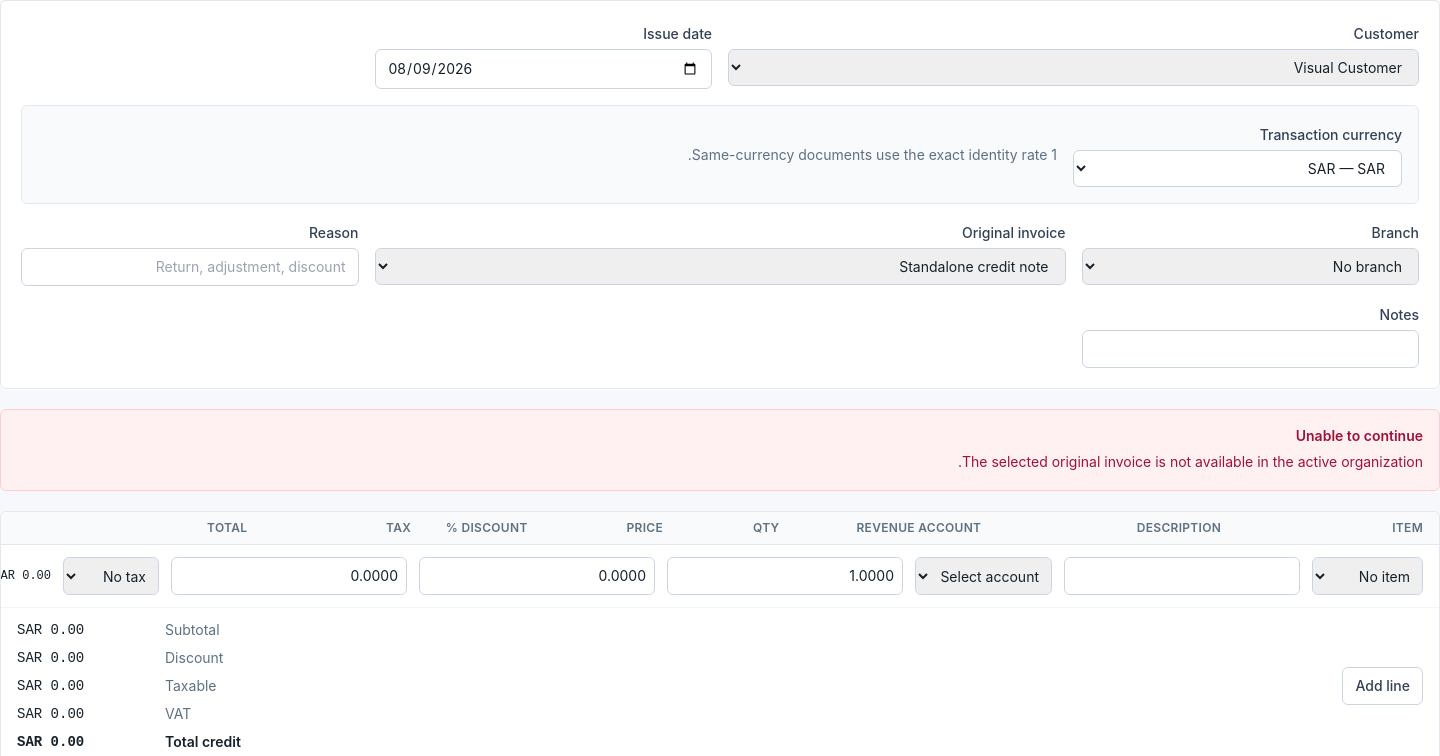
CreditNoteForm › rejects a query-prefilled original invoice when the active organization has no matching invoice
This screenshot has width=1440, height=756.
expect the dropdown labelled "Customer" shows "Visual Customer": met, box [728, 49, 1419, 86]
Type "Credit adjustment" into the 6th field. click: (1182, 576)
box: [1064, 557, 1300, 595]
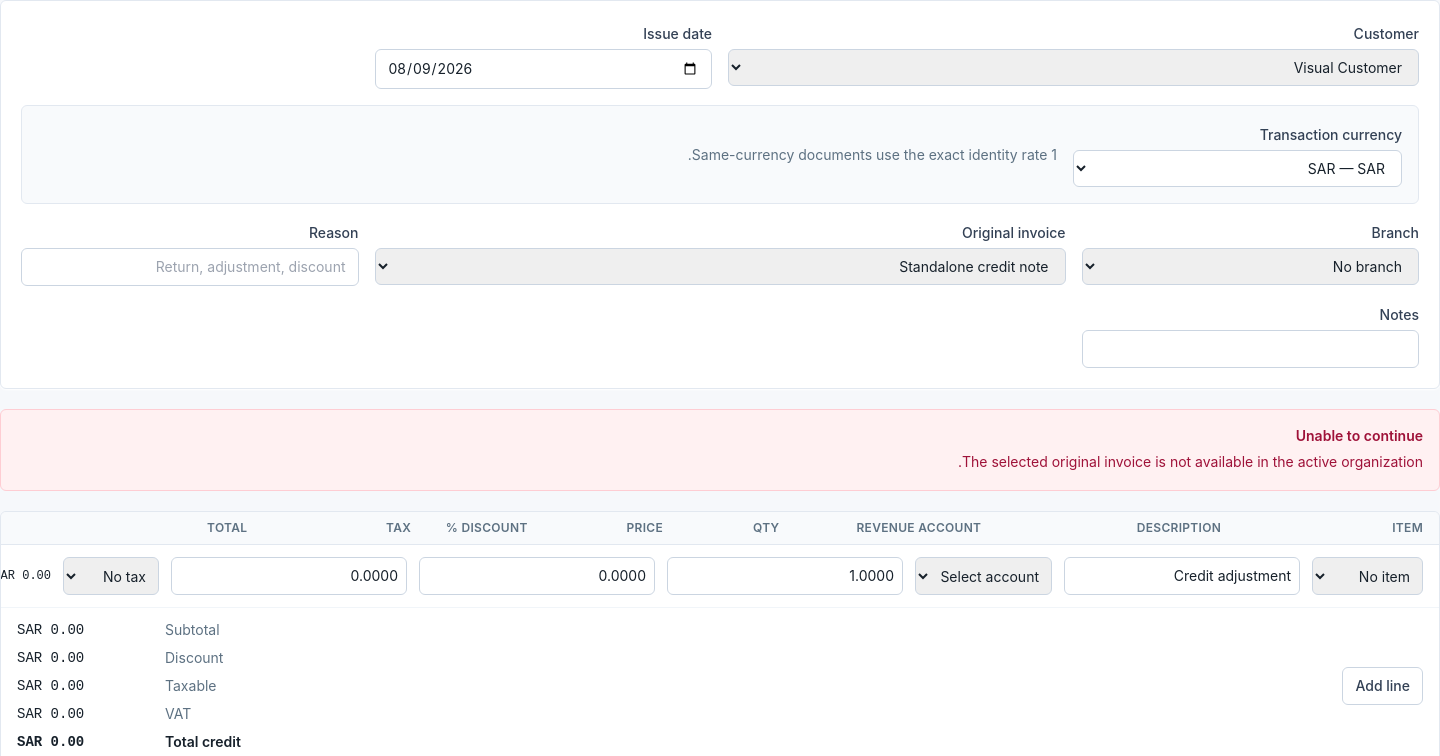
Replace the text in the 4th field with "100.0000". click: (537, 576)
box: [419, 557, 655, 595]
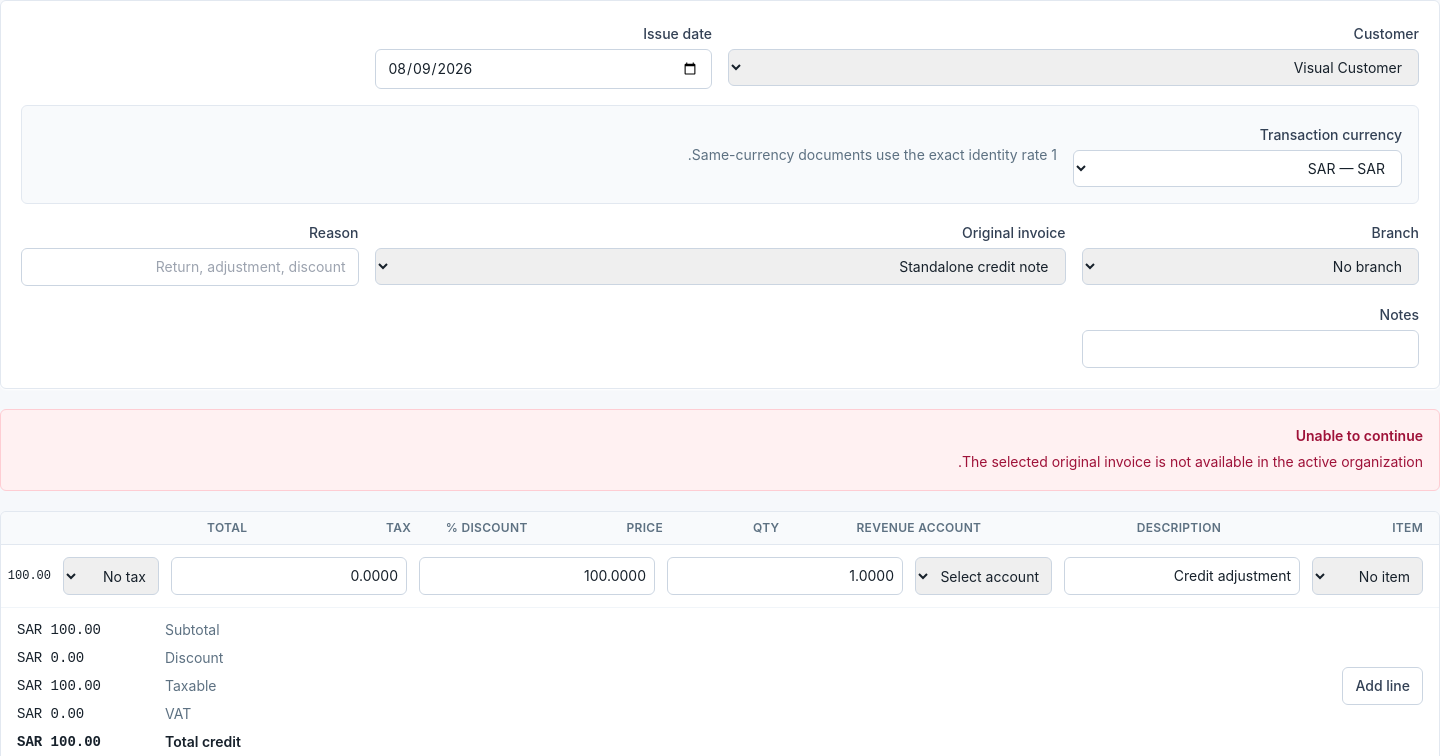
Select "4010 Sales" in the 6th dropdown. click: (984, 576)
box: [915, 557, 1052, 595]
(page scrolled)
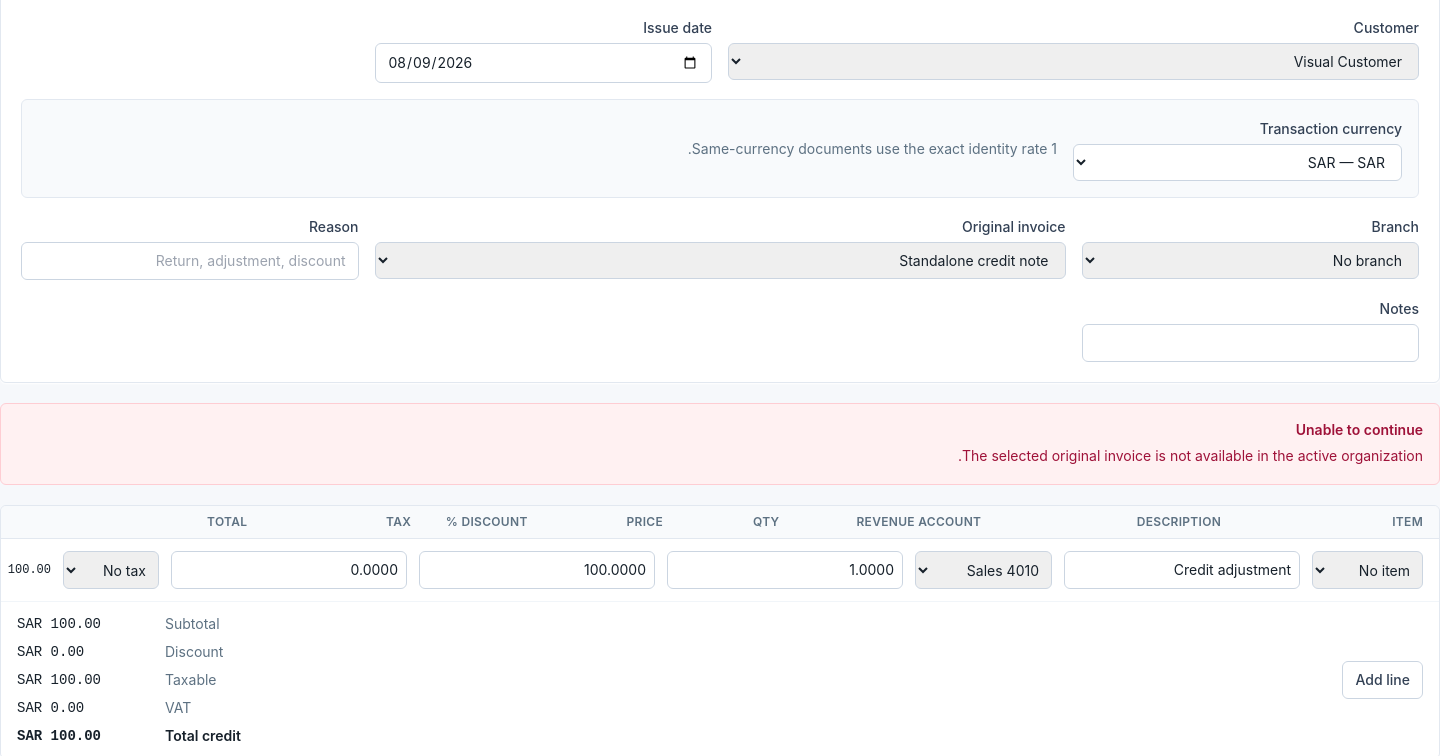
Submit the form named "Create draft credit note"
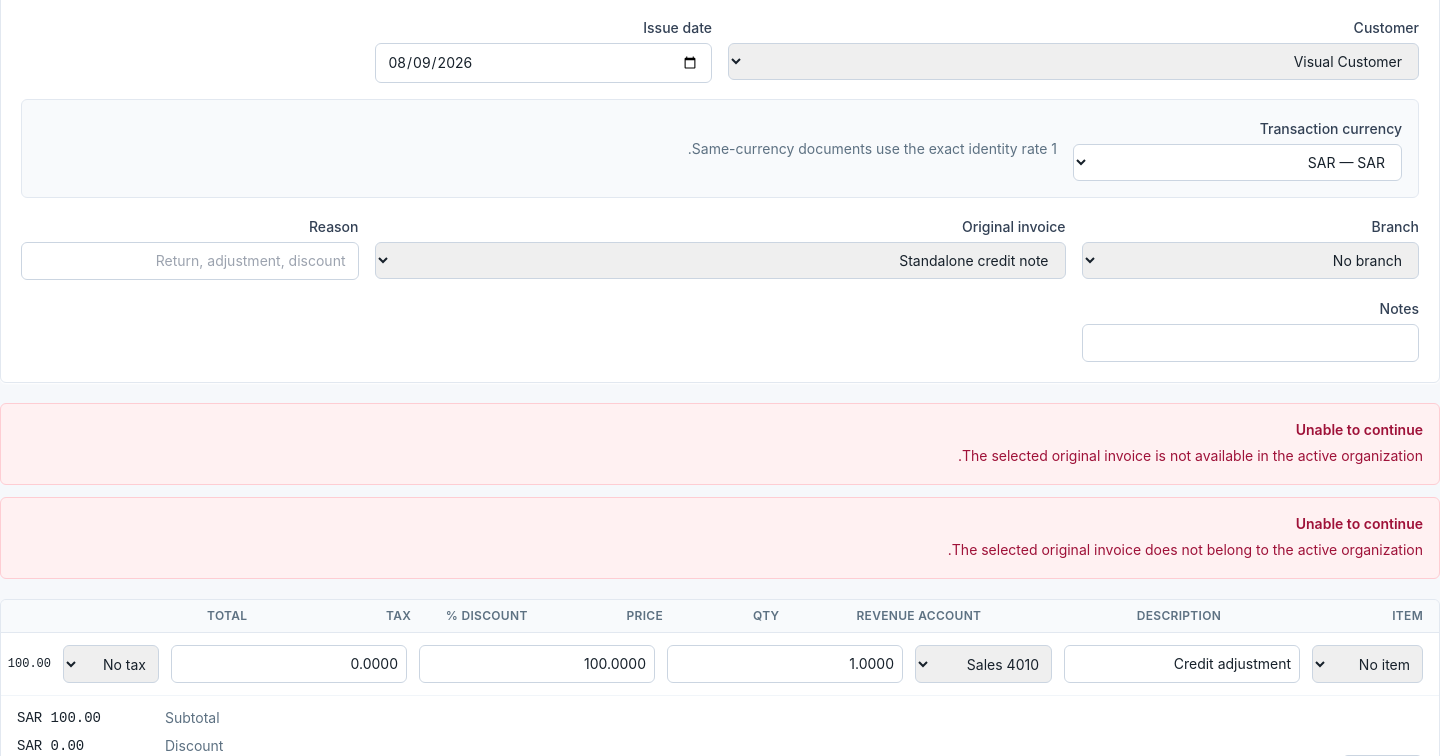
expect the text "original invoice does not belong to the active organization" is shown: met, box [948, 541, 1423, 558]
